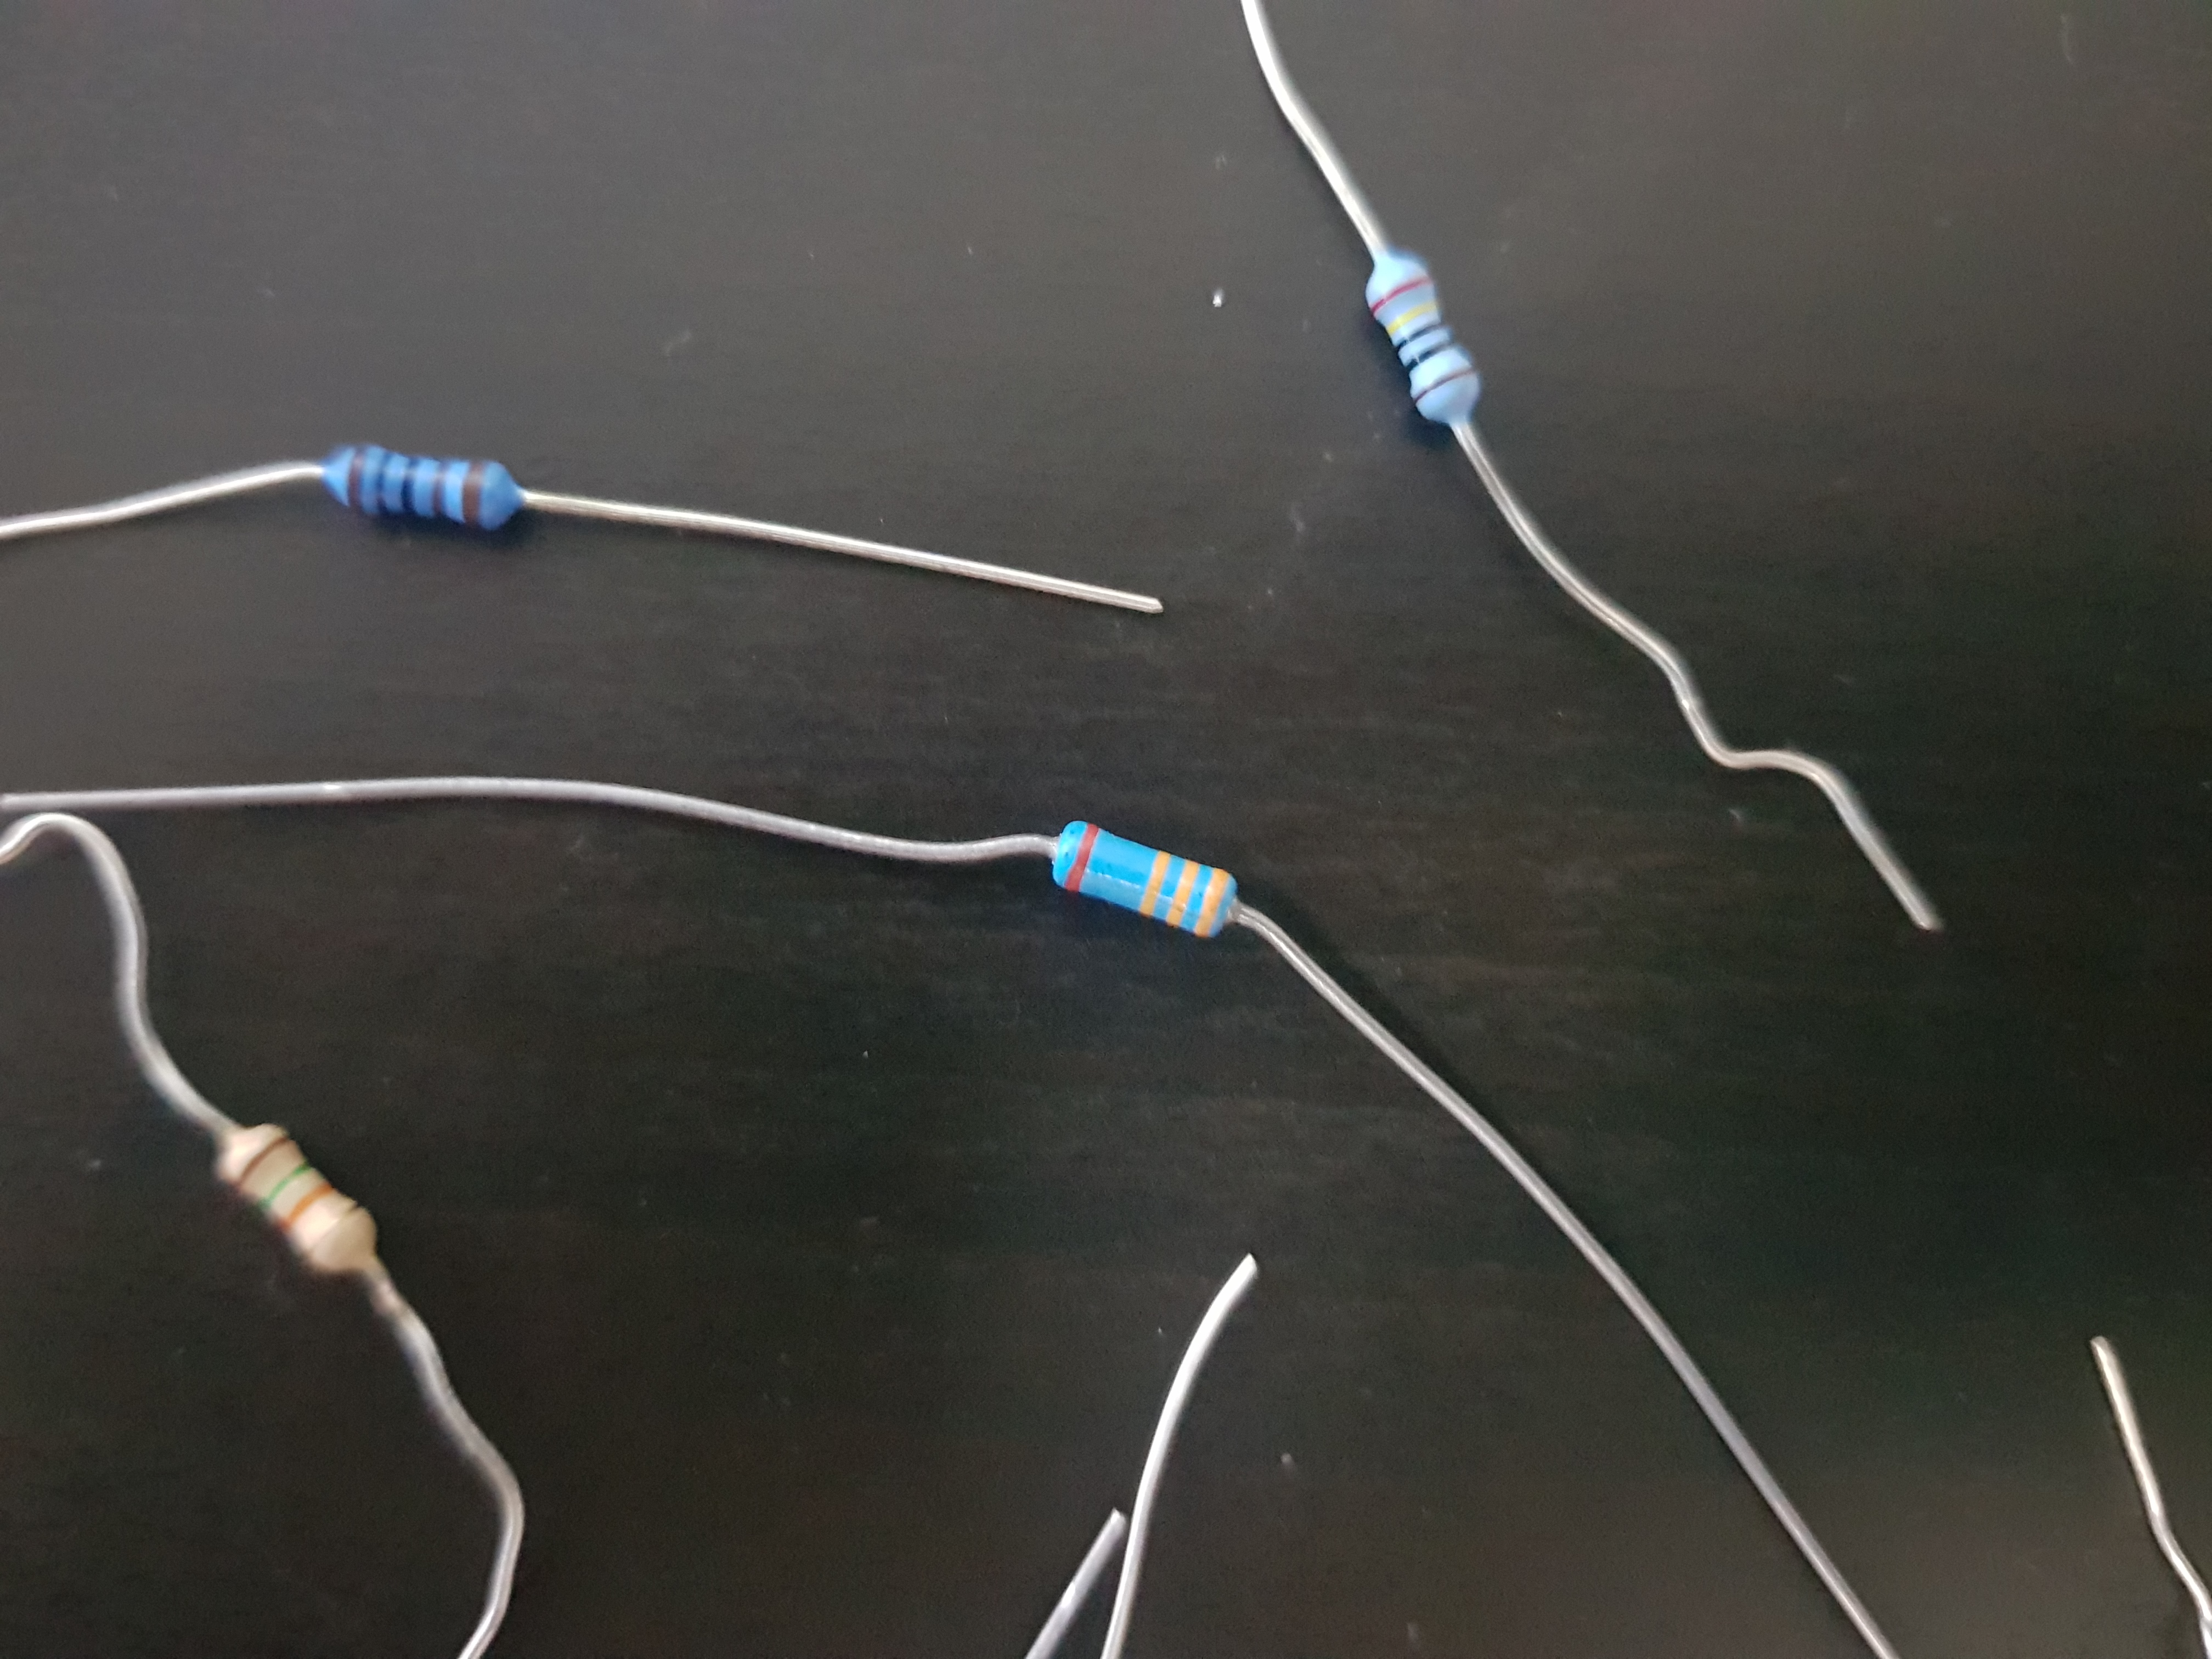resistor: (169, 1021, 451, 1408), (1282, 192, 1568, 528), (911, 788, 1329, 1011), (275, 382, 637, 634)
